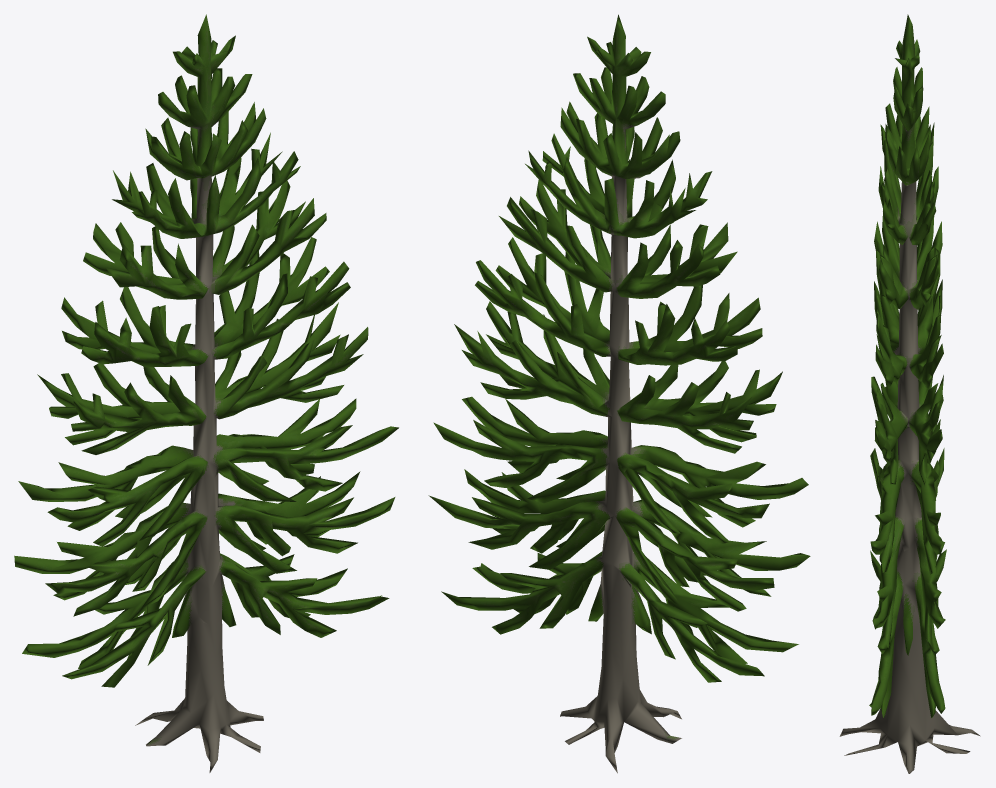
File: araucaria_joven.glb
3 views of the same model, side by side, from view 1: azimuth 30°, elevation 25°; view 2: azimuth 150°, elevation 25°; view 3: azimuth 270°, elevation 25° (orthographic). The views are drawn at different scales.
Parts seen in each view (by area): view 1: tripo_node_de98e60d-658c-4fe1-ae2c-657b110a825c; view 2: tripo_node_de98e60d-658c-4fe1-ae2c-657b110a825c; view 3: tripo_node_de98e60d-658c-4fe1-ae2c-657b110a825c.
Part boxes in pixels (bbox=[...]): tripo_node_de98e60d-658c-4fe1-ae2c-657b110a825c: bbox=[14, 14, 398, 772]; tripo_node_de98e60d-658c-4fe1-ae2c-657b110a825c: bbox=[428, 14, 810, 773]; tripo_node_de98e60d-658c-4fe1-ae2c-657b110a825c: bbox=[839, 14, 980, 773].
Bounding box in the file's own units: 0.5063 × 1 × 0.1739.
1 material, 1 textured.
